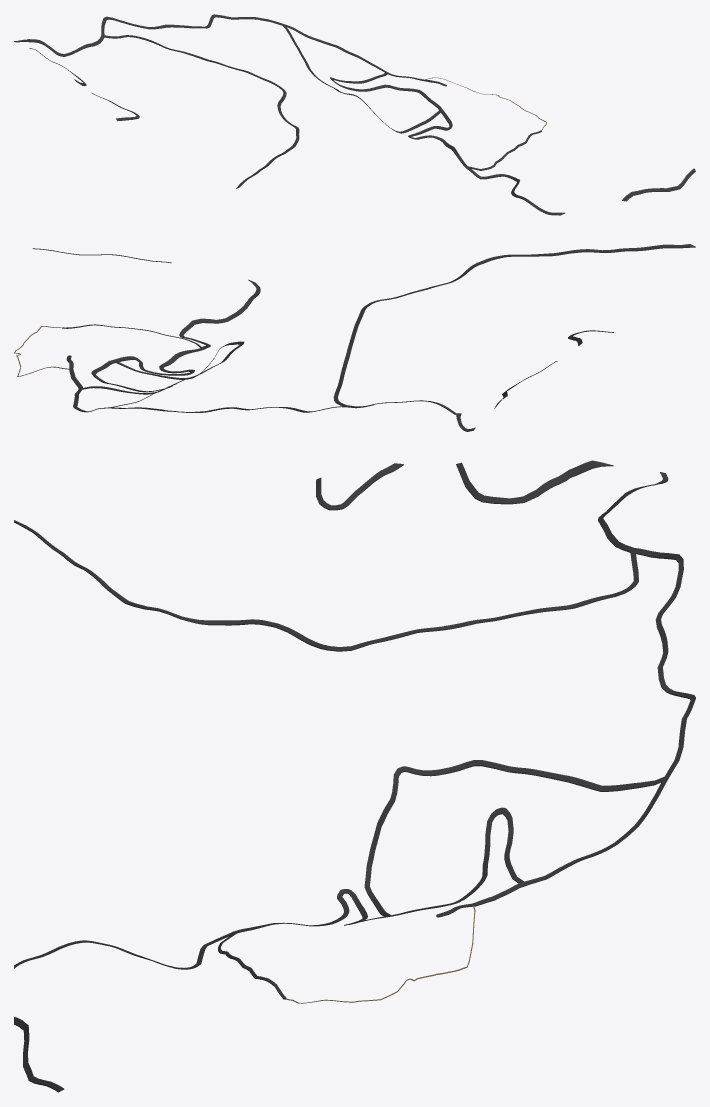
Rendered from 15-27366-14881.b45efd3b.glb.
3 renders of one model, top to bottom at view 1: azimuth 30°, elevation 25°; view 2: azimuth 150°, elevation 25°; view 3: azimuth 270°, elevation 25°, orthographic. The views are drawn at different scales.
Bounding box in the file's own units: 1174 × 300 × 817.
